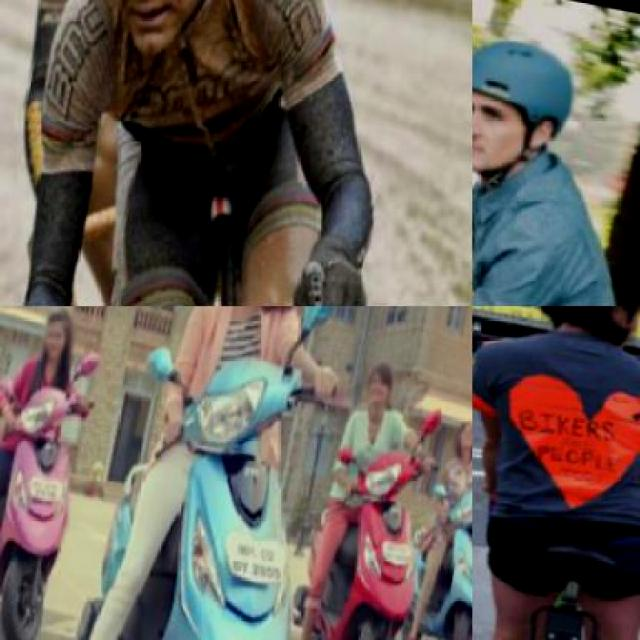With Helmet: (472, 20, 588, 183), (530, 306, 638, 351)
Without Helmet: (32, 306, 85, 369), (360, 349, 402, 408), (451, 400, 471, 454)
